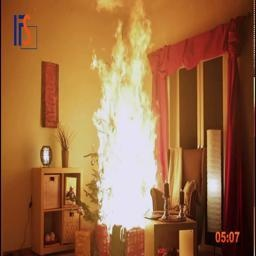fire: (71, 1, 184, 234)
